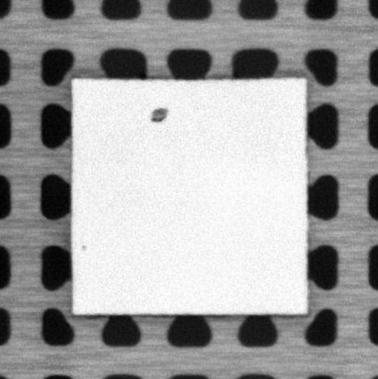DIE_INK: (150, 105, 170, 123), (80, 243, 88, 252)
